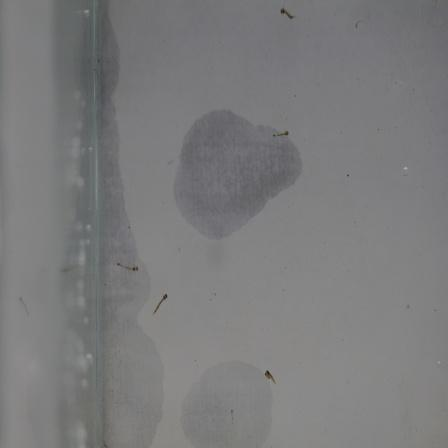Jentik-Nyamuk: (149, 289, 171, 320), (259, 361, 279, 389), (114, 259, 141, 279), (270, 128, 293, 142)
